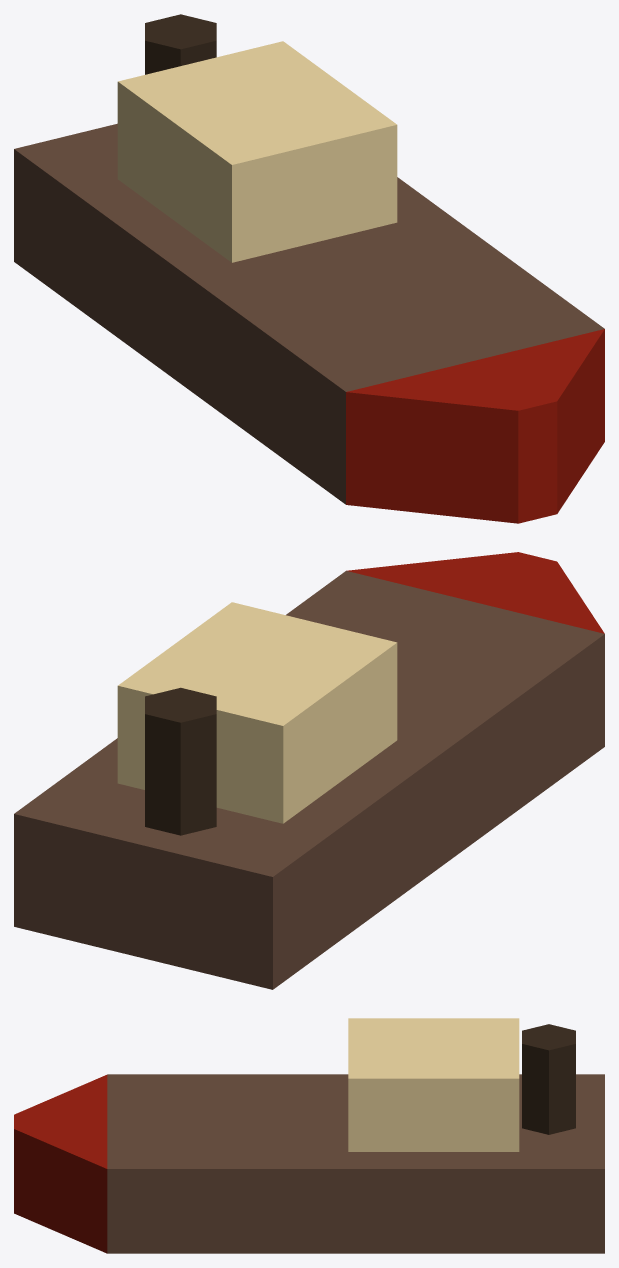
The model's file is boat.glb.
3 renders of one model, top to bottom at view 1: azimuth 30°, elevation 25°; view 2: azimuth 150°, elevation 25°; view 3: azimuth 270°, elevation 25°, orthographic. The views are drawn at different scales.
Visible parts, largest first — view 1: Hull, Cabin1, Bow, Funnel; view 2: Hull, Cabin1, Funnel, Bow; view 3: Hull, Cabin1, Bow, Funnel.
Part boxes in pixels (box(x1,y1,x2,y2)): Hull: box(14, 123, 604, 504); Cabin1: box(117, 41, 397, 262); Bow: box(346, 329, 604, 523); Funnel: box(145, 14, 216, 74); Hull: box(14, 571, 604, 989); Cabin1: box(117, 602, 397, 823); Funnel: box(145, 687, 216, 835); Bow: box(346, 552, 604, 633); Hull: box(107, 1074, 604, 1253); Cabin1: box(348, 1018, 519, 1151); Bow: box(14, 1075, 107, 1253); Funnel: box(522, 1024, 575, 1134).
Size of the model in its own units: 0.72 by 0.6 by 1.9.
